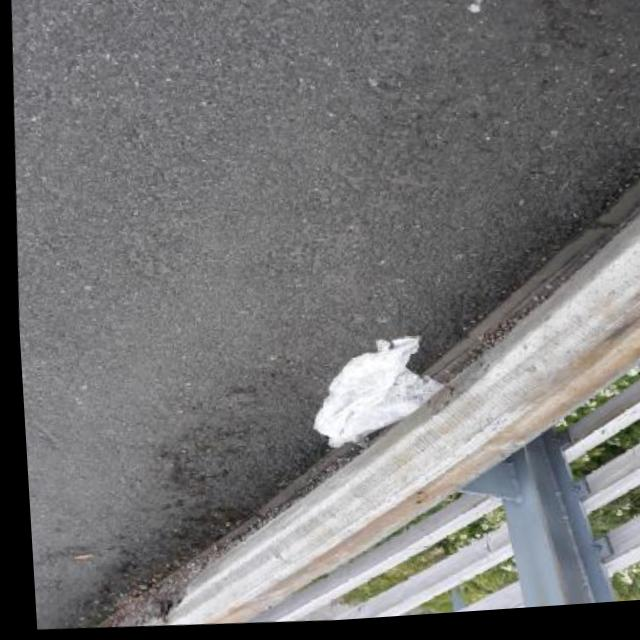metal: (184, 263, 308, 412)
